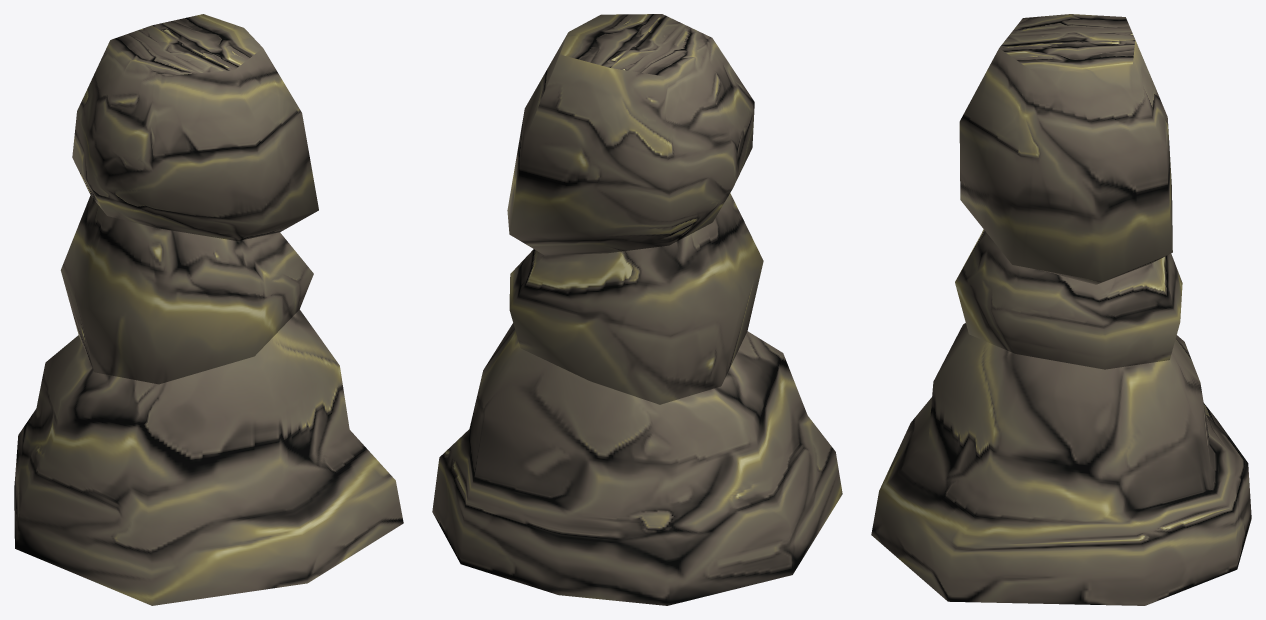
The model's file is Prop_Cliff_03.FBX.
The picture shows the model from 3 angles, left to right: view 1: azimuth 30°, elevation 25°; view 2: azimuth 150°, elevation 25°; view 3: azimuth 270°, elevation 25°; orthographic projection. The views are drawn at different scales.
Parts seen in each view (by area): view 1: Prop_Cliff_03; view 2: Prop_Cliff_03; view 3: Prop_Cliff_03.
Part boxes in pixels (x1,y1,x2,y2): Prop_Cliff_03: (14, 14, 403, 605); Prop_Cliff_03: (432, 14, 842, 605); Prop_Cliff_03: (871, 14, 1251, 605).
Bounding box in the file's own units: 2.61 × 3.6 × 2.58.
